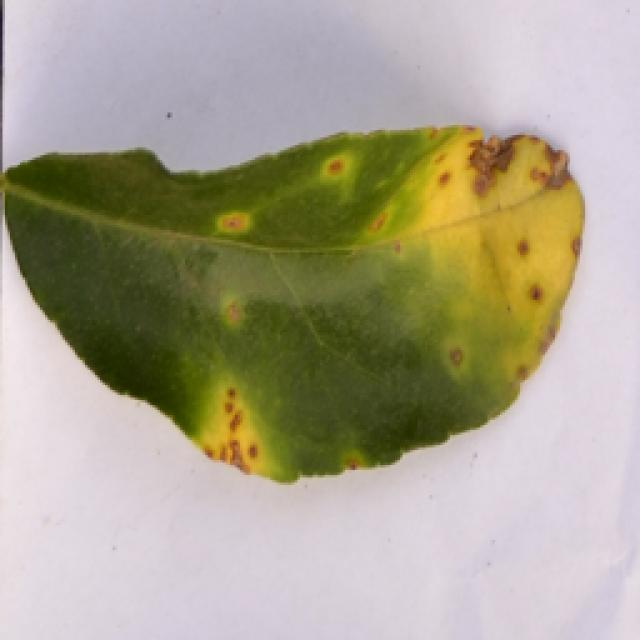canker: (44, 107, 579, 480)
